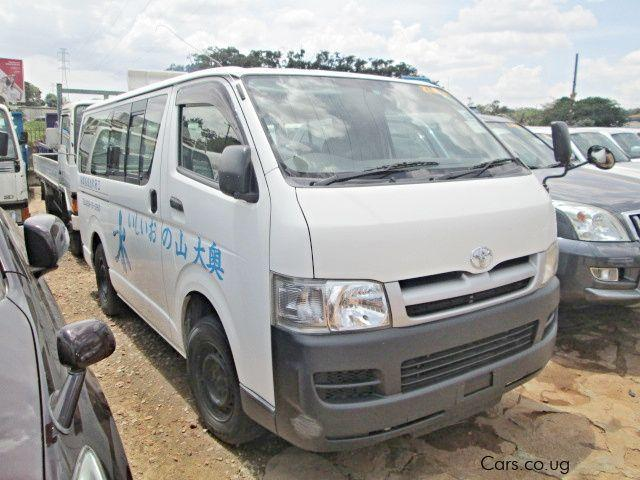van: (78, 66, 569, 447)
